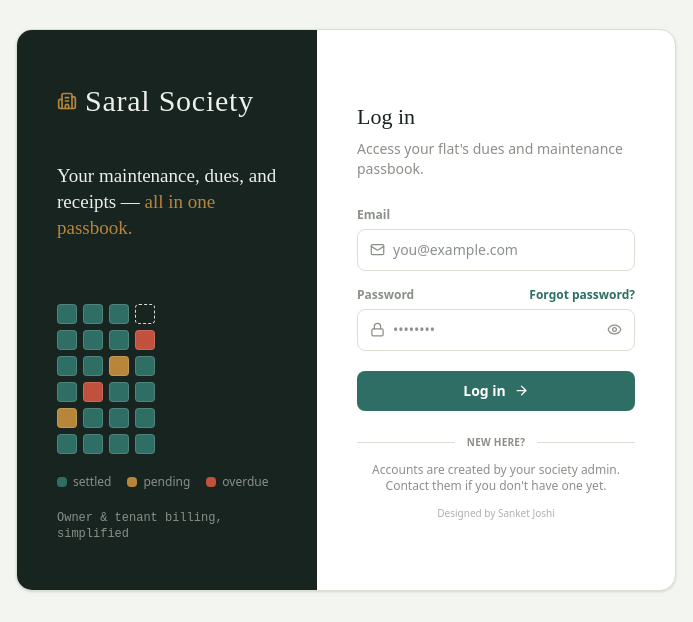
it: LoginPage › invalid credentials show a server error and do not redirect
Type "admin@sunrise.test" into the field labelled "Email" at (508, 250), box left=393, top=230, right=622, bottom=270
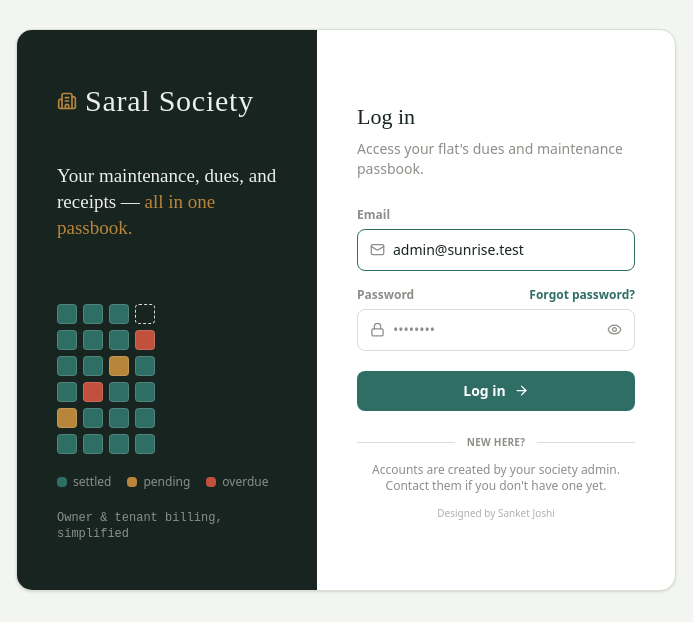
Type "wrong-password" into the password field labelled "Password" at (496, 330), box left=393, top=310, right=599, bottom=350
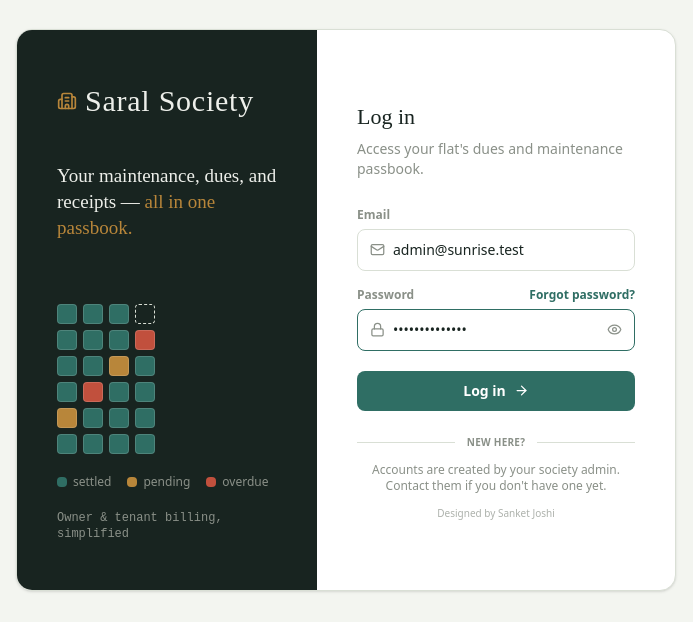
Click the button "Log in" at (496, 390), box left=357, top=370, right=635, bottom=410
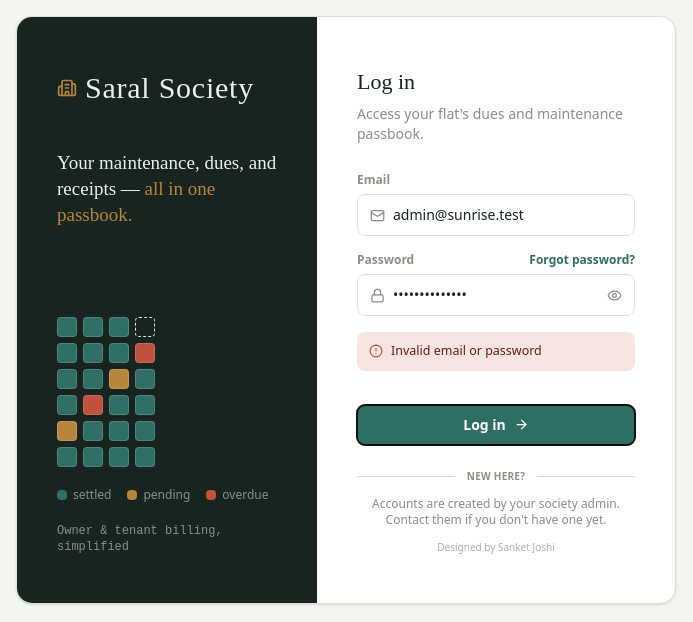
Check: the text "Invalid email or password" is shown, box left=391, top=342, right=542, bottom=361
